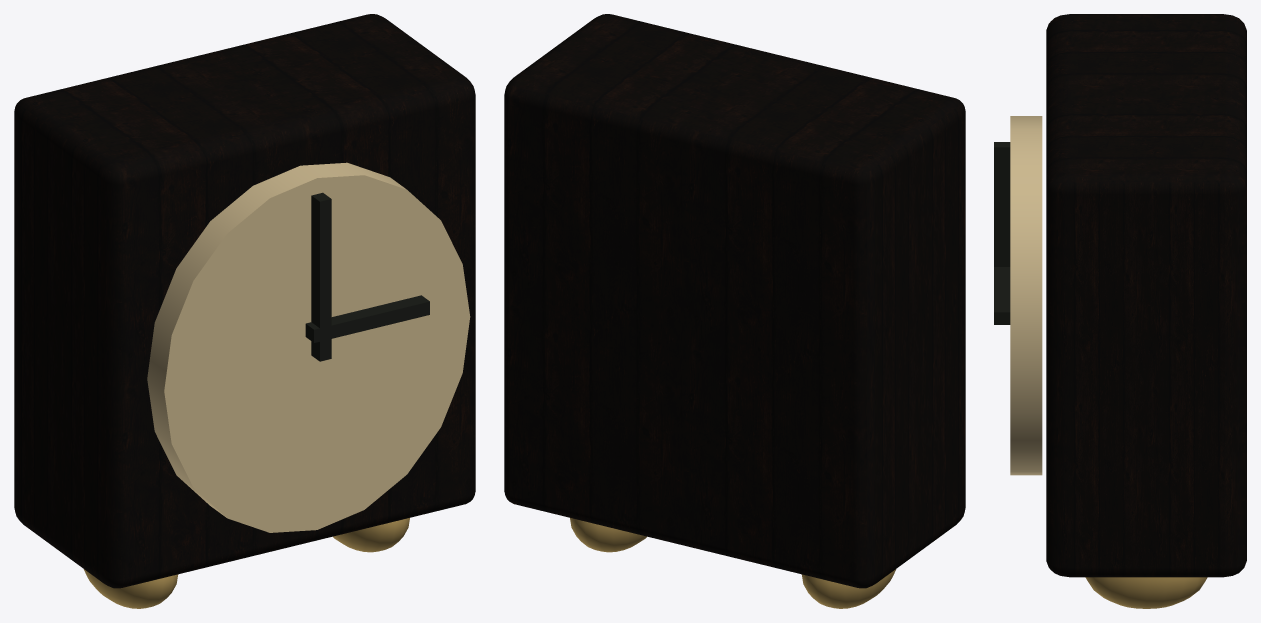
3 views of the same model, side by side, from view 1: azimuth 30°, elevation 25°; view 2: azimuth 150°, elevation 25°; view 3: azimuth 270°, elevation 25° (orthographic). The views are drawn at different scales.
Visible parts, largest first — view 1: b-timer; view 2: b-timer; view 3: b-timer.
Boxes of the visible parts, x1,y1,x2,y2 form: b-timer: [14, 14, 475, 608]; b-timer: [504, 14, 965, 608]; b-timer: [994, 14, 1246, 608].
Bounding box in the file's own units: 0.16 × 0.2 × 0.1.
4 materials, 1 textured.
